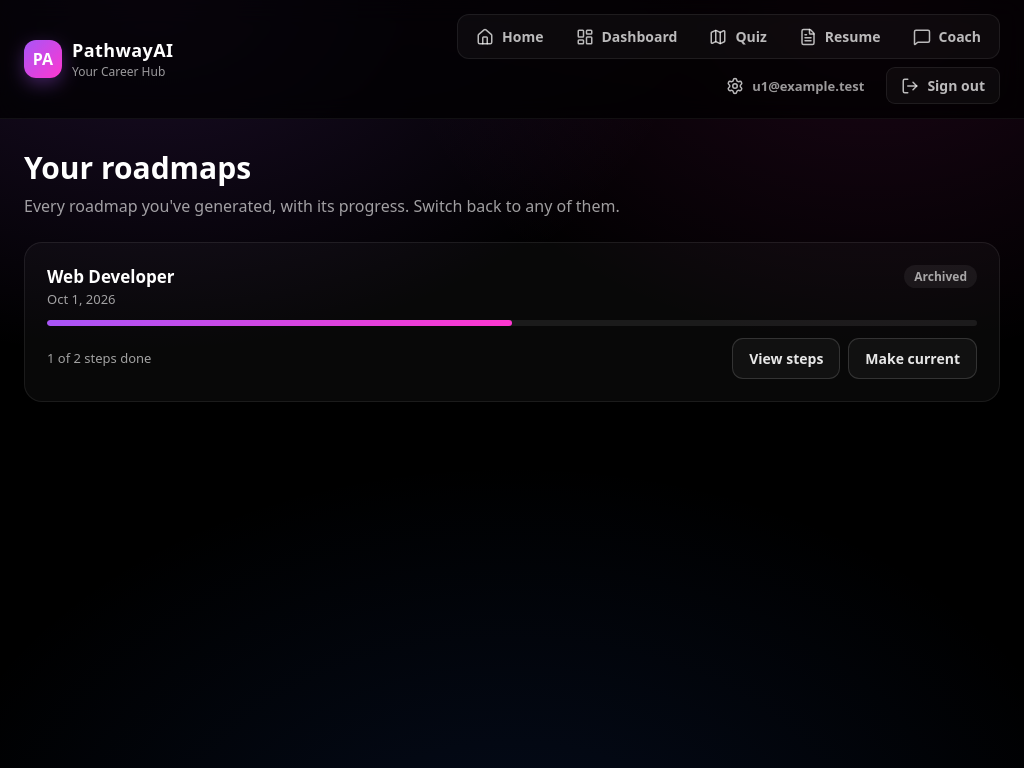
Test: /roadmaps › shows an archived roadmap's steps read-only
What coordinates should you click on to do the following:
click the button "View steps"
I would click on:
 (786, 358)
Its box is [732,338,840,379].
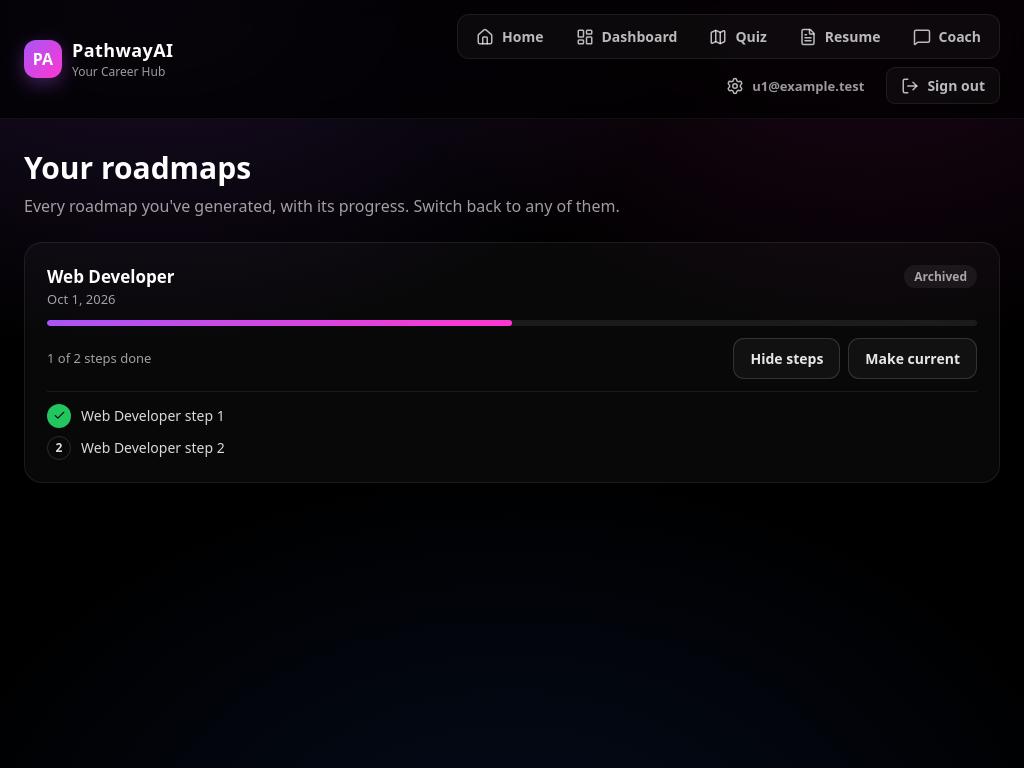
Result: the text "Web Developer step 1" is shown at [81,406,225,425]
